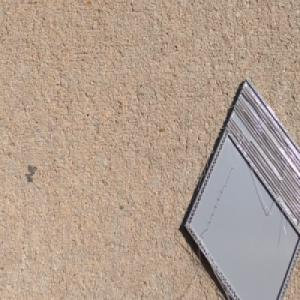PlasticPart: (183, 76, 300, 300)
